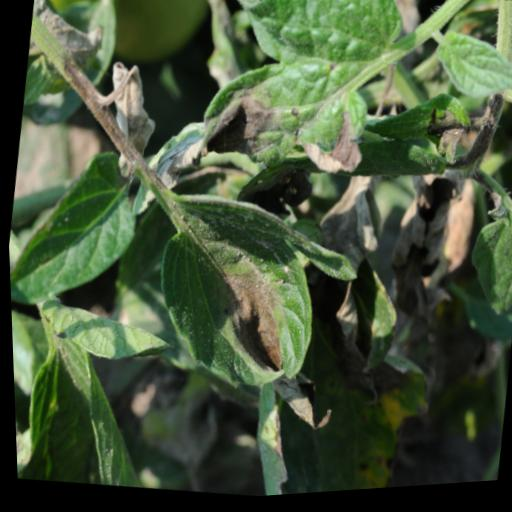Late Blight: (135, 182, 342, 428), (196, 0, 407, 191)
